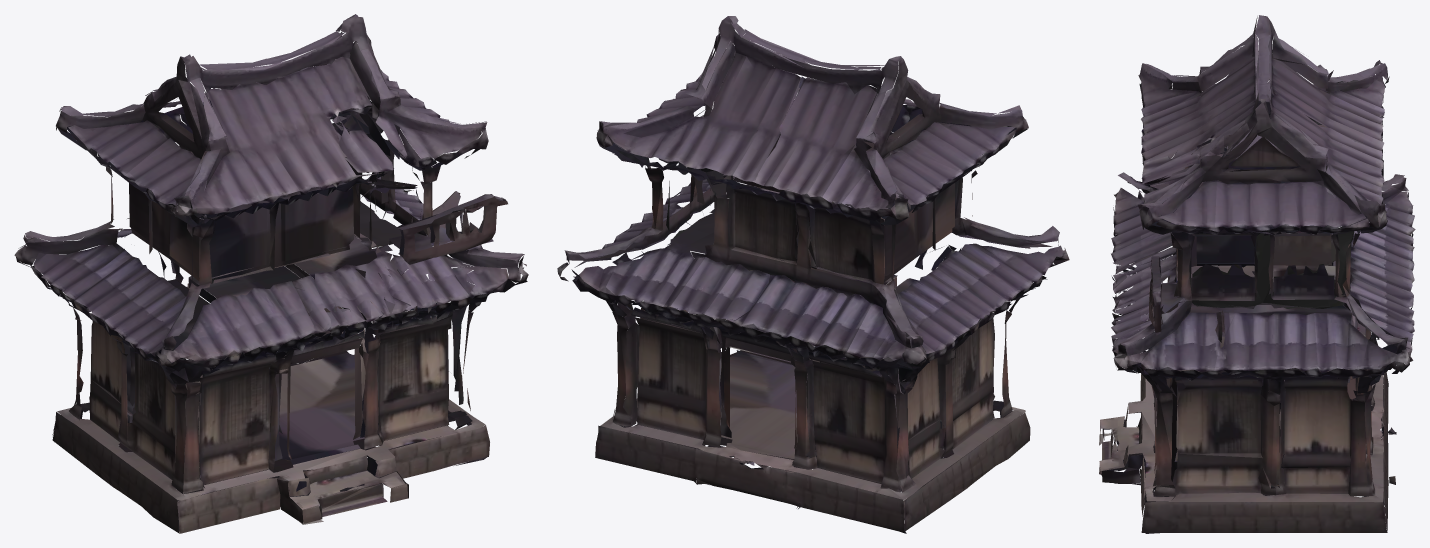
The model's file is blackPavilion.glb.
The picture shows the model from 3 angles, left to right: view 1: azimuth 30°, elevation 25°; view 2: azimuth 150°, elevation 25°; view 3: azimuth 270°, elevation 25°; orthographic projection. The views are drawn at different scales.
Parts seen in each view (by area): view 1: Prop_blackPavilion; view 2: Prop_blackPavilion; view 3: Prop_blackPavilion.
Boxes of the visible parts, x1=… form: Prop_blackPavilion: x1=14, y1=14, x2=528, y2=533; Prop_blackPavilion: x1=557, y1=16, x2=1069, y2=533; Prop_blackPavilion: x1=1099, y1=15, x2=1415, y2=533.
Bounding box in the file's own units: 6.56 × 7.05 × 4.97.
1 material, 1 textured.
